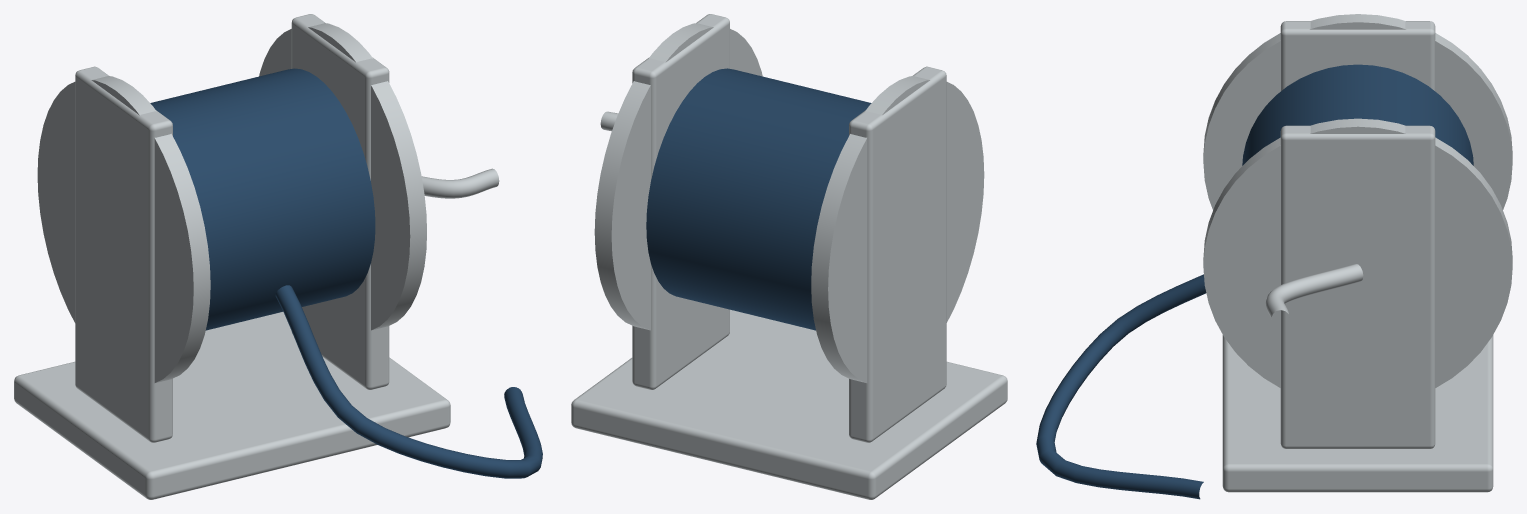
File: rowing-boathouse-and-regatta-course-water-hose-reel-c6621704__32153.glb
3 renders of one model, left to right at view 1: azimuth 30°, elevation 25°; view 2: azimuth 150°, elevation 25°; view 3: azimuth 270°, elevation 25°, orthographic.
Parts seen in each view (by area): view 1: water-hose-reel; view 2: water-hose-reel; view 3: water-hose-reel.
Boxes of the visible parts, x1,y1,x2,y2 form: water-hose-reel: (14,14,542,499); water-hose-reel: (571,14,1007,499); water-hose-reel: (1036,14,1512,499).
Size of the model in its own units: 0.555 by 0.5 by 0.6161.
